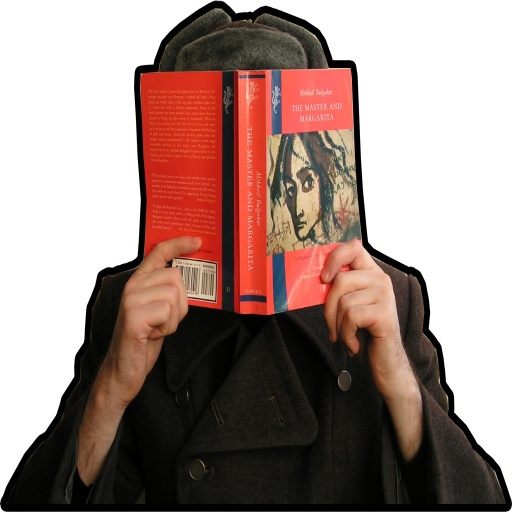hand: (99, 234, 205, 402), (319, 242, 416, 376)
